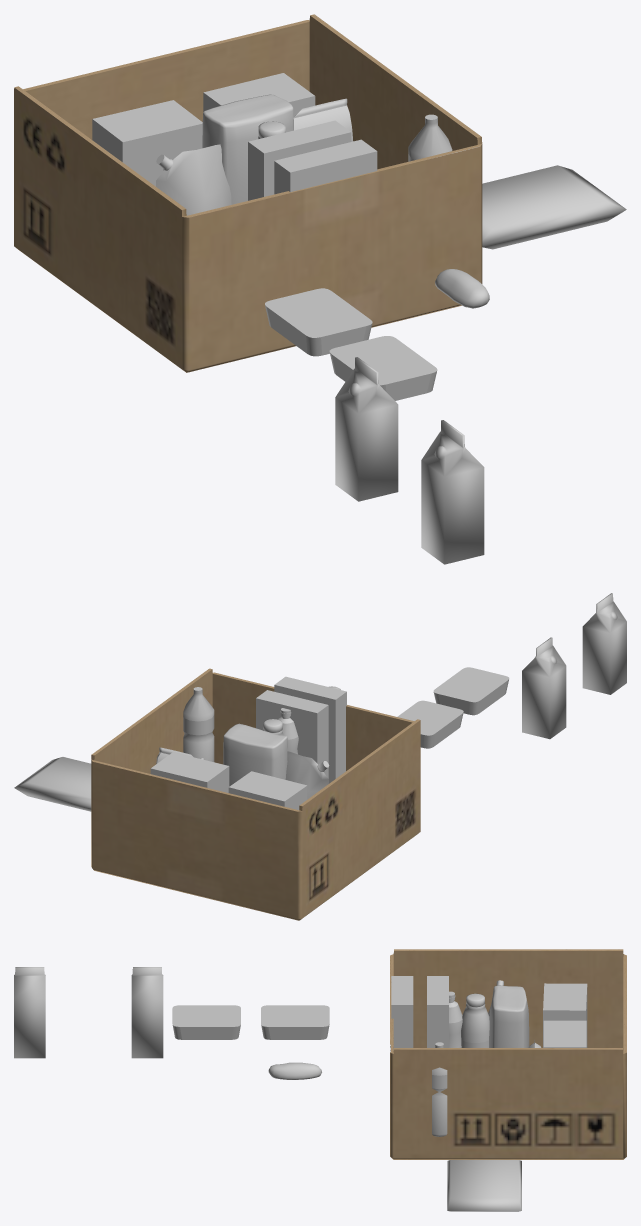
File: props.fbx
3 renders of one model, top to bottom at view 1: azimuth 30°, elevation 25°; view 2: azimuth 150°, elevation 25°; view 3: azimuth 270°, elevation 25°, orthographic. The views are drawn at different scales.
Visible parts, largest first — view 1: CardboardBox_20x20x10_Animated_Model_CardboardBox_20x20x10_M, Plane007, applejuicegfx, grapejuicegfx, Object001, Object385, Flour_ckgfmu_Pack01, Object386, Sugar_ffc568_Pack01, Cereals_me9j99_Pack002, Cereals_me9j99_Pack01, Object002 (+3 smaller); view 2: CardboardBox_20x20x10_Animated_Model_CardboardBox_20x20x10_M, grapejuicegfx, applejuicegfx, Flour_ckgfmu_Pack01, Cereals_me9j99_Pack01, Plane007, Cereals_me9j99_Pack002, Object386, Object002, Object001, Object385, Object383 (+3 smaller); view 3: CardboardBox_20x20x10_Animated_Model_CardboardBox_20x20x10_M, Plane007, applejuicegfx, grapejuicegfx, Flour_ckgfmu_Pack01, Object385, Object386, Object001, Cereals_me9j99_Pack002, Cereals_me9j99_Pack01, Milk_l6slvx_Pack01, Object002 (+3 smaller).
Boxes of the visible parts, x1,y1,x2,y2 form: CardboardBox_20x20x10_Animated_Model_CardboardBox_20x20x10_M: (14, 14, 482, 372); Plane007: (482, 165, 626, 249); applejuicegfx: (335, 357, 398, 501); grapejuicegfx: (421, 420, 484, 564); Object001: (92, 100, 202, 186); Object385: (265, 288, 372, 356); Flour_ckgfmu_Pack01: (202, 94, 293, 204); Object386: (329, 336, 437, 400); Sugar_ffc568_Pack01: (156, 144, 231, 215); Cereals_me9j99_Pack002: (274, 139, 377, 194); Cereals_me9j99_Pack01: (248, 120, 351, 200); Object002: (203, 73, 315, 116); CardboardBox_20x20x10_Animated_Model_CardboardBox_20x20x10_M: (91, 668, 420, 920); grapejuicegfx: (582, 593, 626, 694); applejuicegfx: (522, 637, 566, 739); Flour_ckgfmu_Pack01: (223, 723, 287, 786); Cereals_me9j99_Pack01: (256, 690, 328, 778); Plane007: (14, 757, 91, 811); Cereals_me9j99_Pack002: (274, 676, 346, 783); Object386: (433, 667, 509, 715); Object002: (150, 752, 229, 792); Object001: (228, 771, 307, 810); Object385: (397, 700, 463, 748); Object383: (183, 692, 214, 761); CardboardBox_20x20x10_Animated_Model_CardboardBox_20x20x10_M: (390, 949, 626, 1159); Plane007: (447, 1160, 521, 1211); applejuicegfx: (131, 967, 163, 1058); grapejuicegfx: (14, 967, 45, 1058); Flour_ckgfmu_Pack01: (489, 985, 529, 1047); Object385: (261, 1005, 329, 1039); Object386: (172, 1005, 240, 1039); Object001: (543, 983, 587, 1047); Cereals_me9j99_Pack002: (391, 976, 413, 1050); Cereals_me9j99_Pack01: (427, 976, 448, 1047); Milk_l6slvx_Pack01: (461, 993, 489, 1047); Object002: (543, 1020, 586, 1047).
Size of the model in its own units: 43.28 by 67.28 by 14.63.
